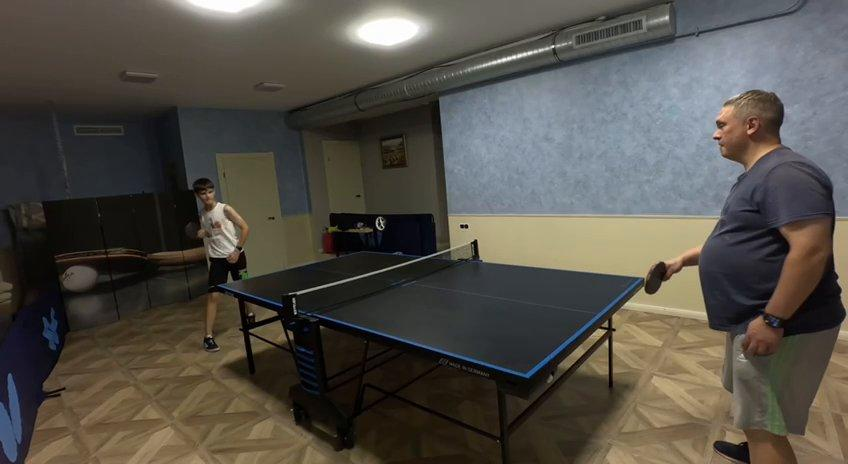Net: (280, 241, 481, 325)
Player1: (193, 179, 248, 284)
Player2: (665, 90, 844, 463)
Table: (220, 250, 640, 376)
